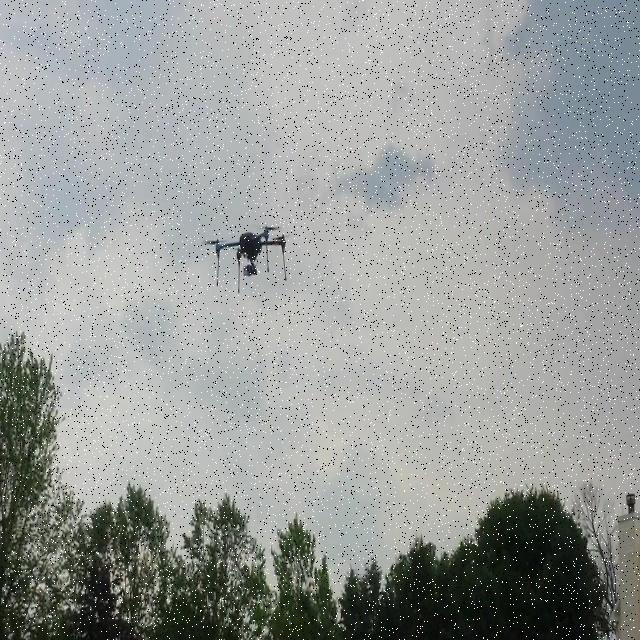UAV: (202, 224, 290, 294)
